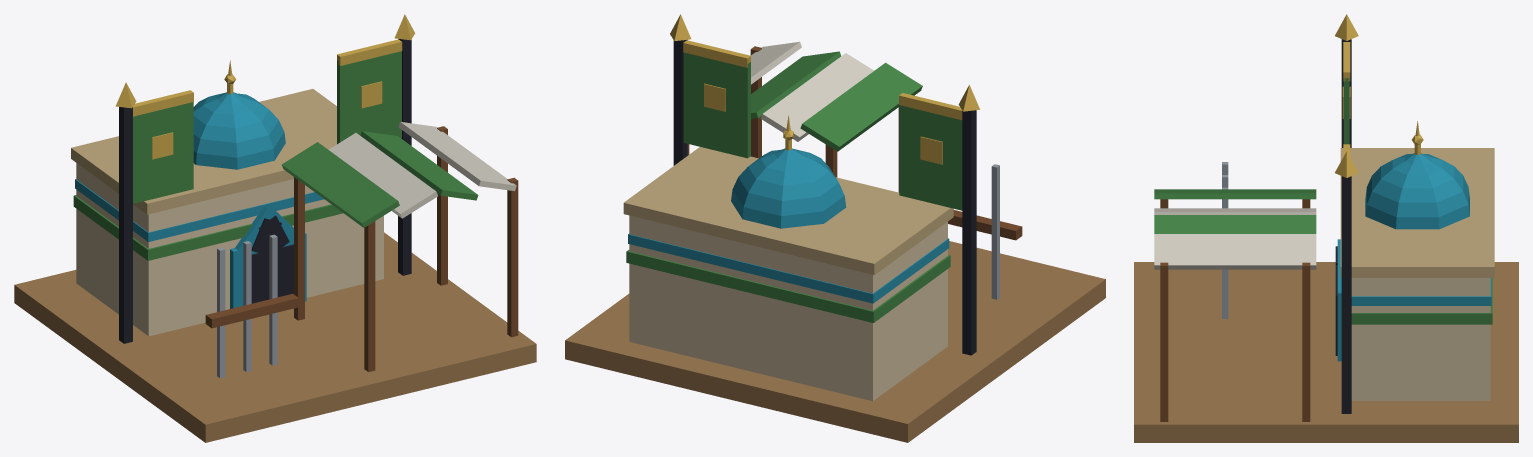
File: camp_ranger_t2.glb
3 renders of one model, left to right at view 1: azimuth 30°, elevation 25°; view 2: azimuth 150°, elevation 25°; view 3: azimuth 270°, elevation 25°, orthographic. The views are drawn at different scales.
Visible parts, largest first — view 1: body; view 2: body; view 3: body.
Boxes of the visible parts, box(x1,y1,x2,y2) form: body: box(14, 14, 536, 442); body: box(565, 14, 1105, 442); body: box(1134, 14, 1518, 442).
Bounding box in the file's own units: 1.9 × 1.52 × 1.9.
